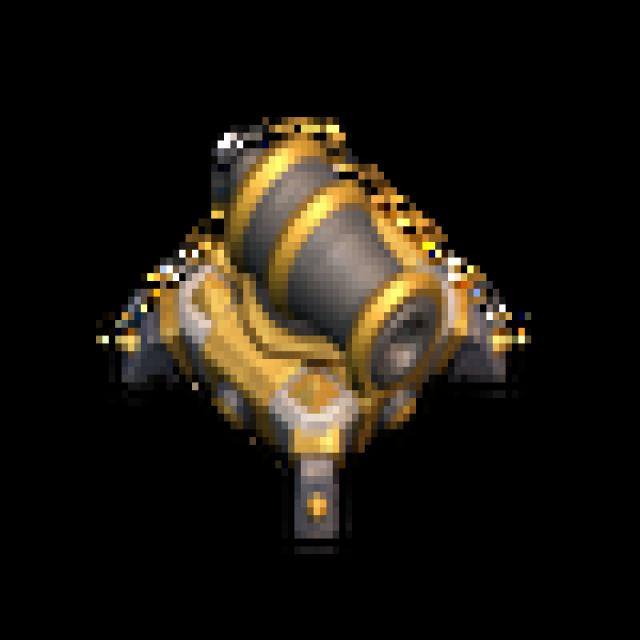cannon: (97, 94, 547, 549)
